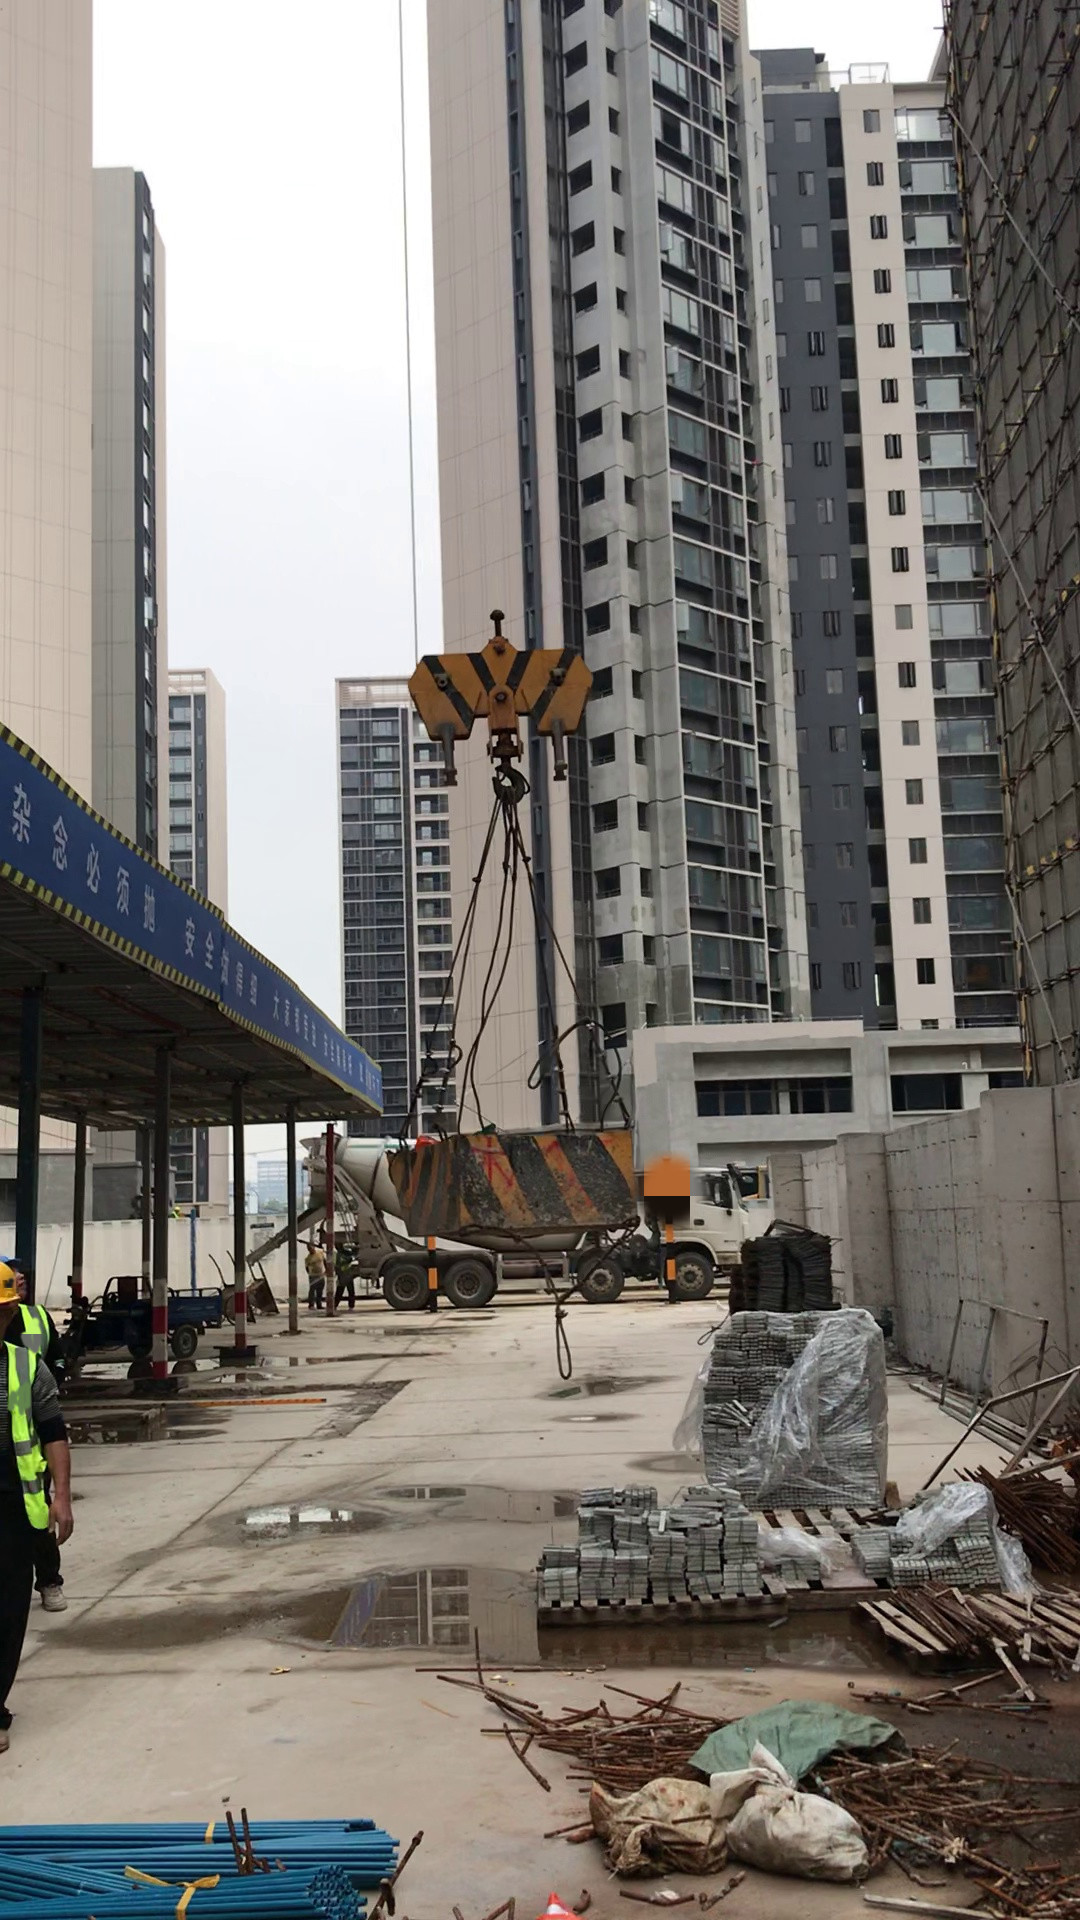handcart: (217, 1245, 284, 1316)
hook: (400, 608, 589, 759)
person: (1, 1344, 74, 1775)
slogan: (13, 762, 381, 1119)
vest: (2, 1305, 68, 1540)
